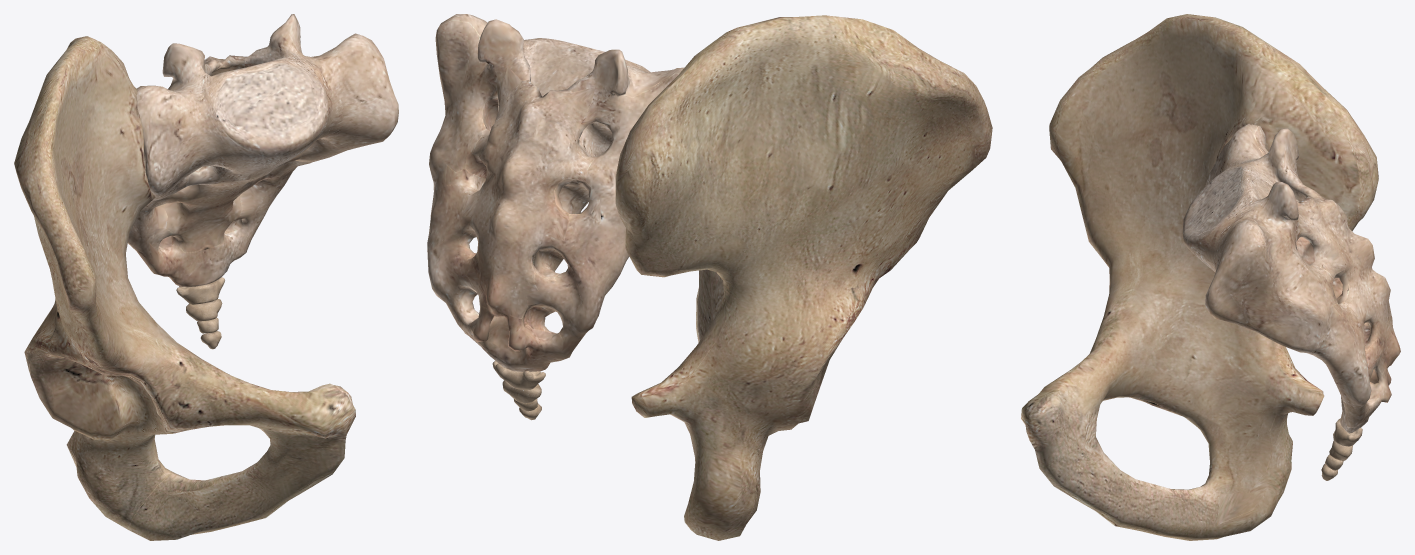
The model's file is Legs.002.obj.
3 renders of one model, left to right at view 1: azimuth 30°, elevation 25°; view 2: azimuth 150°, elevation 25°; view 3: azimuth 270°, elevation 25°, orthographic. The views are drawn at different scales.
Parts seen in each view (by area): view 1: Legs.002_Arms.151; view 2: Legs.002_Arms.151; view 3: Legs.002_Arms.151.
Part boxes in pixels (x1,y1,x2,y2): Legs.002_Arms.151: (14,14,398,540); Legs.002_Arms.151: (427,14,992,540); Legs.002_Arms.151: (1021,14,1400,540).
Bounding box in the file's own units: 1.07 × 1.22 × 0.8775.
